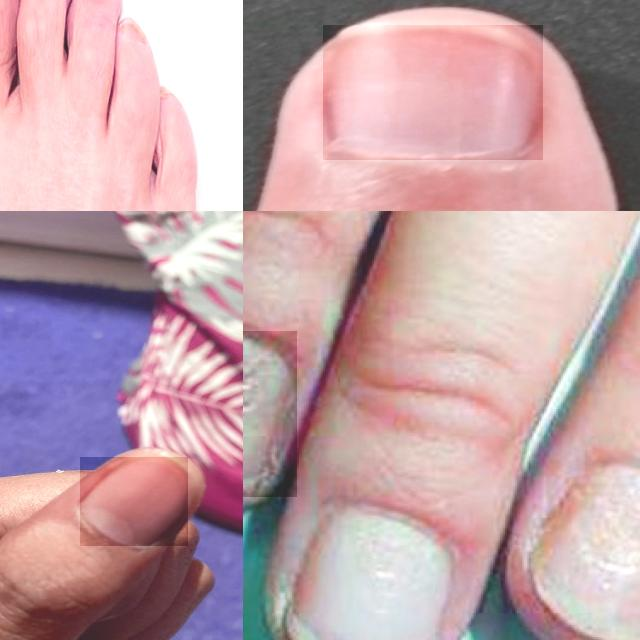diabetes: (289, 504, 454, 640), (529, 462, 640, 640), (243, 337, 297, 491)
sehat: (323, 25, 543, 160), (80, 458, 188, 546)
